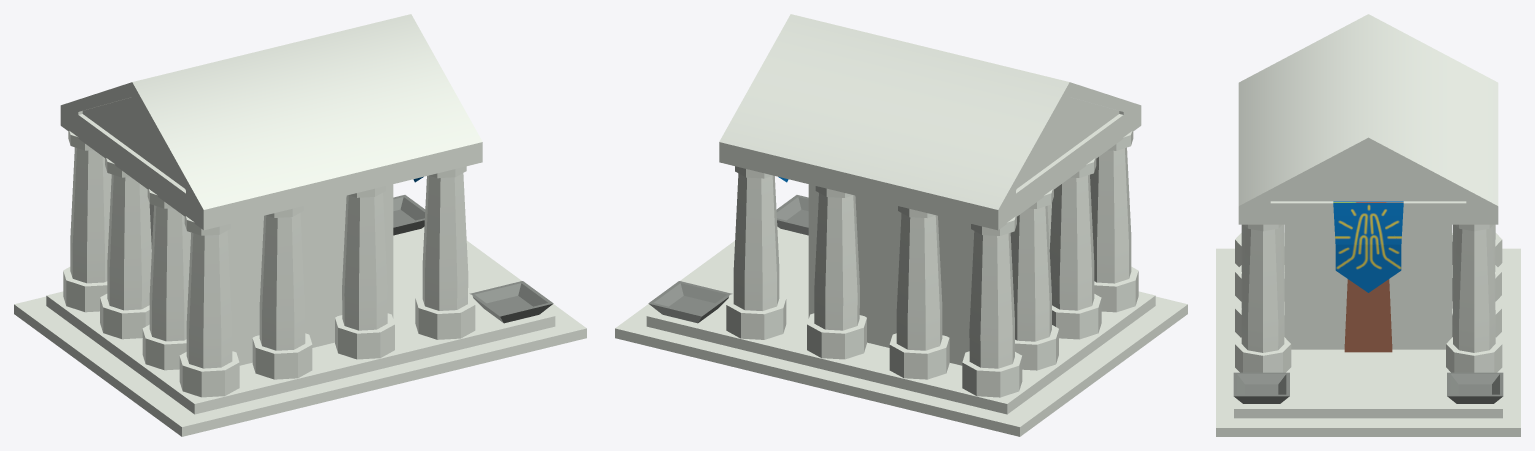
The model's file is temple_2.fbx.
3 views of the same model, side by side, from view 1: azimuth 30°, elevation 25°; view 2: azimuth 150°, elevation 25°; view 3: azimuth 270°, elevation 25° (orthographic). The views are drawn at different scales.
Parts seen in each view (by area): view 1: structure, pillar3, pillar6, pillar1, pillar7, pillar5, pillar4, pillar2, torch, torch1; view 2: structure, pillar2, pillar, pillar8, pillar9, pillar4, pillar3, pillar5, torch1, torch; view 3: structure, pillar1, pillar, pPlane1, door, torch, torch1, pillar7, pillar9, pillar6, pillar8.
Boxes of the visible parts, x1,y1,x2,y2 form: structure: (14,14,586,436); pillar3: (179,216,239,397); pillar6: (252,206,312,379); pillar1: (415,166,475,339); pillar7: (335,186,394,359); pillar5: (100,158,151,339); pillar4: (142,189,191,370); pillar2: (63,131,111,312); torch: (469,281,553,323); torch1: (393,195,425,235); structure: (615,14,1187,436); pillar2: (962,216,1022,397); pillar: (726,166,786,339); pillar8: (889,206,949,379); pillar9: (807,186,866,359); pillar4: (1049,158,1101,339); pillar3: (1090,131,1138,312); pillar5: (1010,189,1058,370); torch1: (648,281,732,323); torch: (776,195,808,235); structure: (1216,14,1520,436); pillar1: (1235,224,1291,372); pillar: (1446,224,1502,372); pPlane1: (1333,201,1403,292); door: (1344,279,1392,352); torch: (1233,372,1289,403); torch1: (1447,372,1503,403); pillar7: (1235,225,1284,337); pillar9: (1452,225,1501,337); pillar6: (1235,224,1284,301); pillar8: (1452,224,1501,301).
Size of the model in its own units: 10.86 by 7.3 by 7.8.
1 material, 1 textured.
